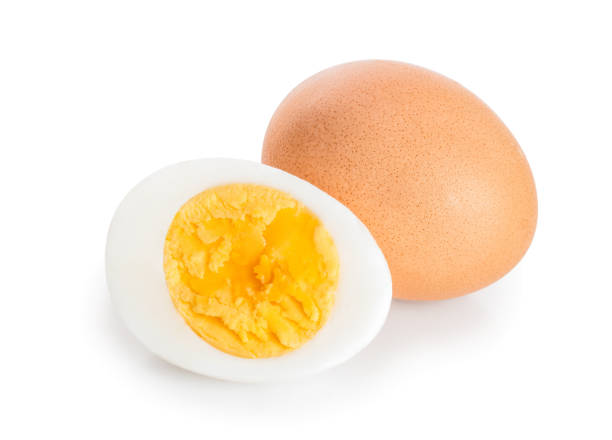telur: (144, 192, 338, 348), (395, 106, 497, 278)
